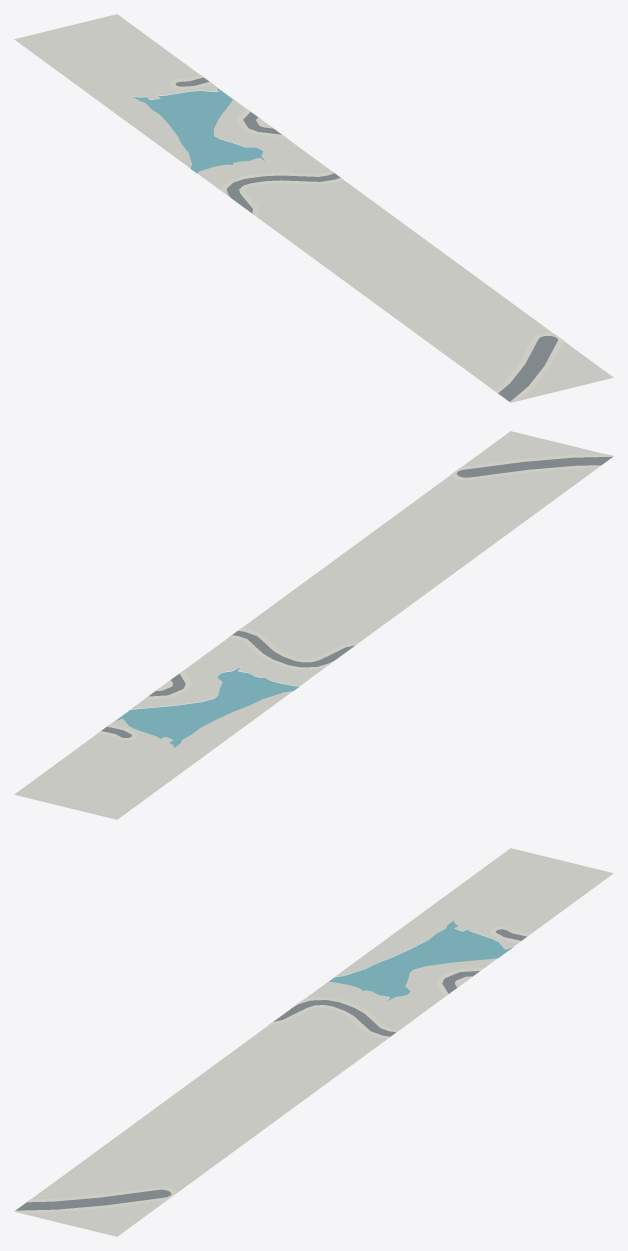
The picture shows the model from 3 angles, top to bottom: view 1: azimuth 30°, elevation 25°; view 2: azimuth 150°, elevation 25°; view 3: azimuth 330°, elevation 25°; orthographic projection.
Parts seen in each view (by area): view 1: city; view 2: city; view 3: city.
Boxes of the visible parts, x1,y1,x2,y2 form: city: [14, 14, 613, 402]; city: [14, 431, 613, 819]; city: [14, 848, 613, 1236].
Size of the model in its own units: 60 by 0.4 by 500.
